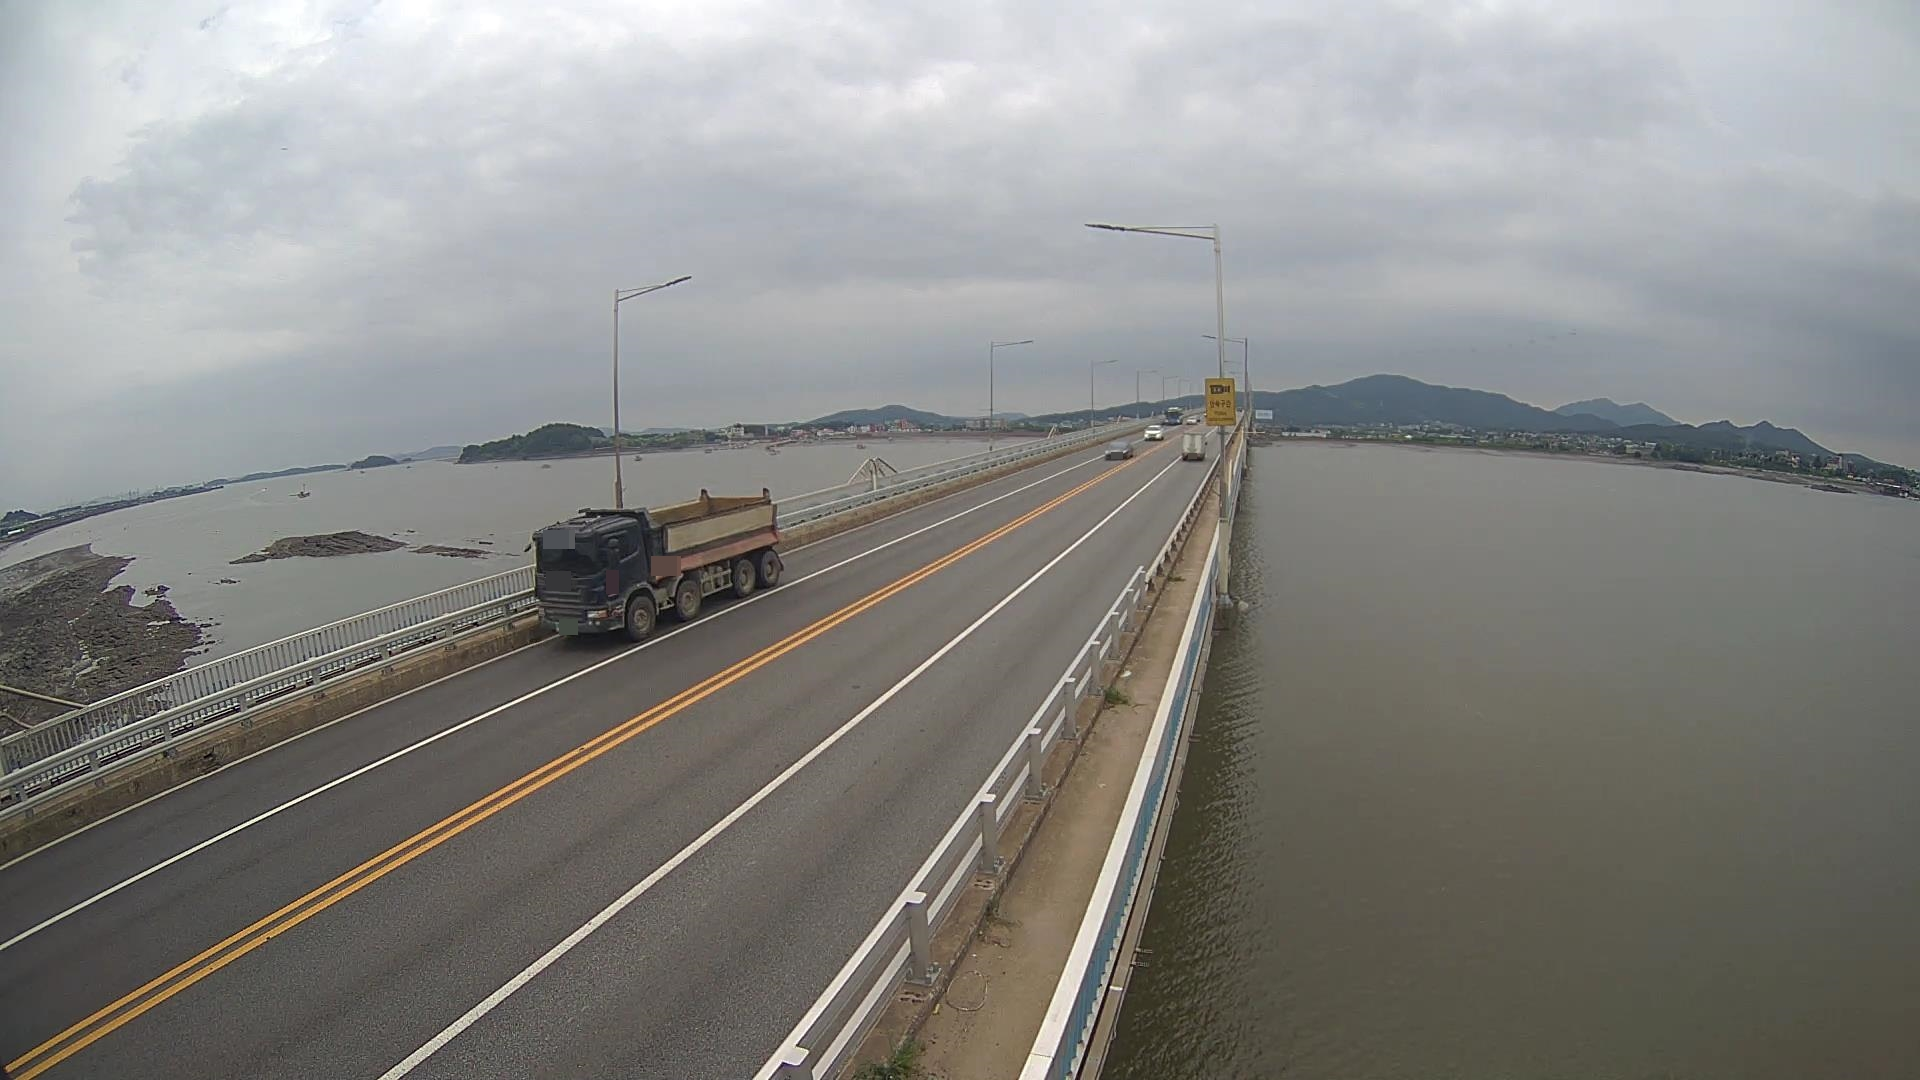정상차량: (524, 487, 785, 640)
